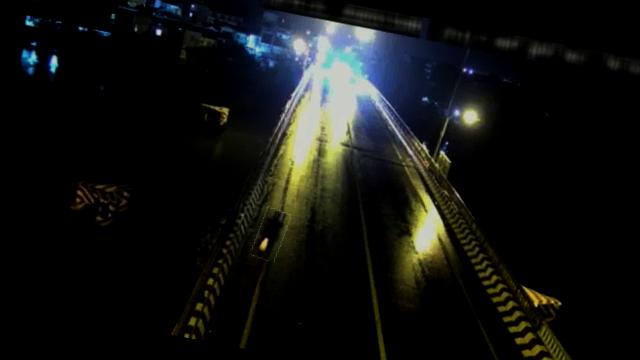Bike: (252, 206, 290, 263)
